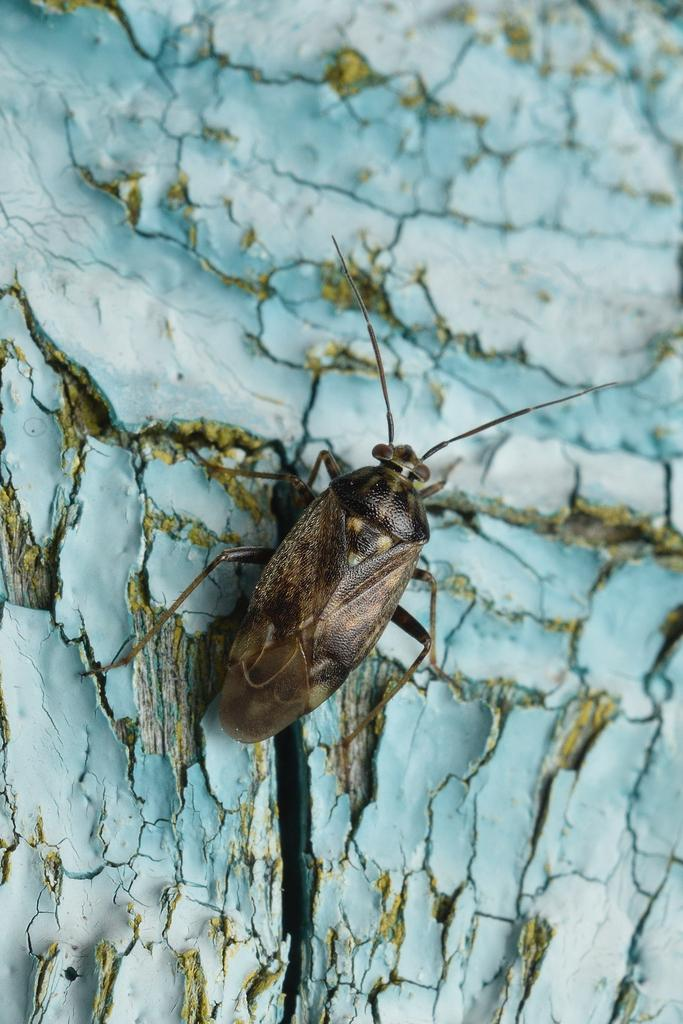plant_bugs: (33, 208, 657, 874)
